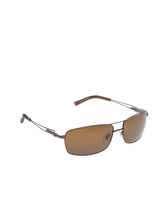glasses: (20, 92, 153, 156)
